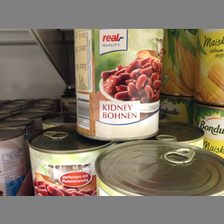beans: (73, 28, 163, 140)
